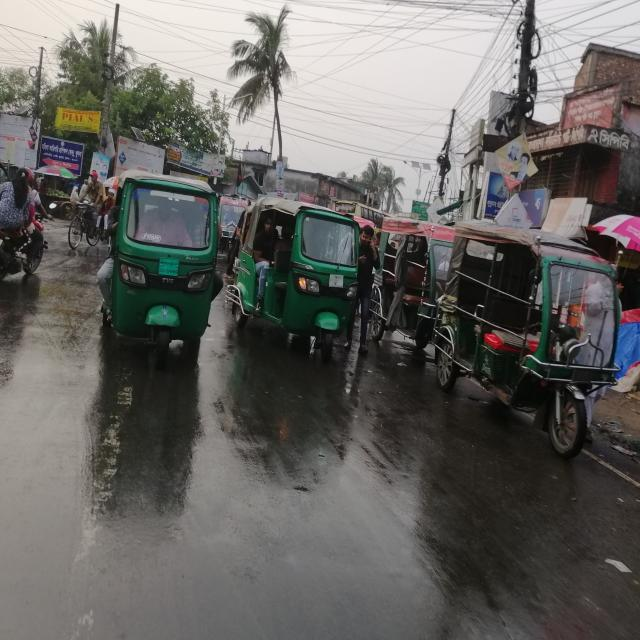CNG: (104, 169, 222, 363), (233, 198, 363, 365)
Easybike: (438, 225, 619, 443)
Motorbike: (1, 220, 63, 287)
